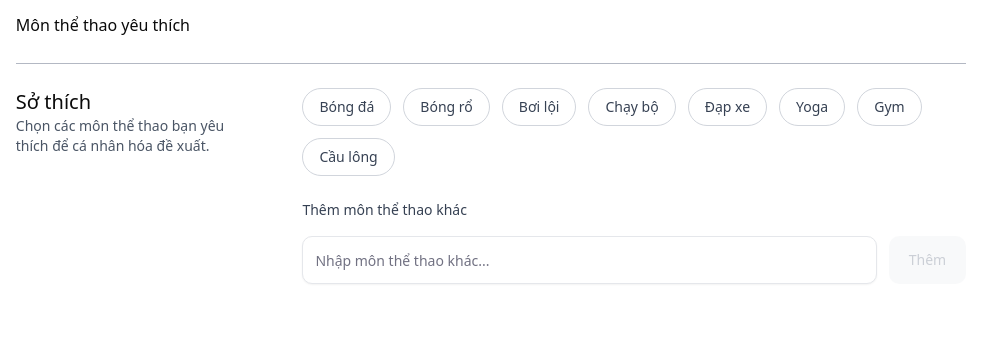
Test: SportsSection Component › allows removing custom sports
Type "Bóng chuyền" into the field with placeholder "Nhập môn thể thao khác...".
click(590, 260); type("Bóng chuyền")  # box [302,236,877,284]
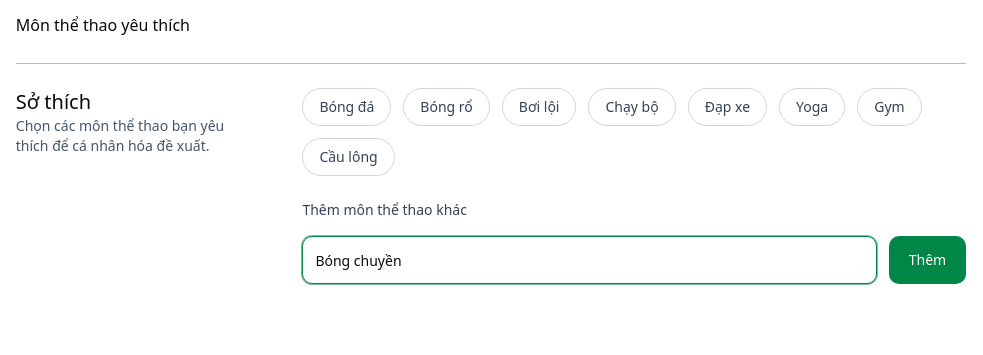
Click the button "Thêm".
click(928, 260)  # box [889,236,966,284]
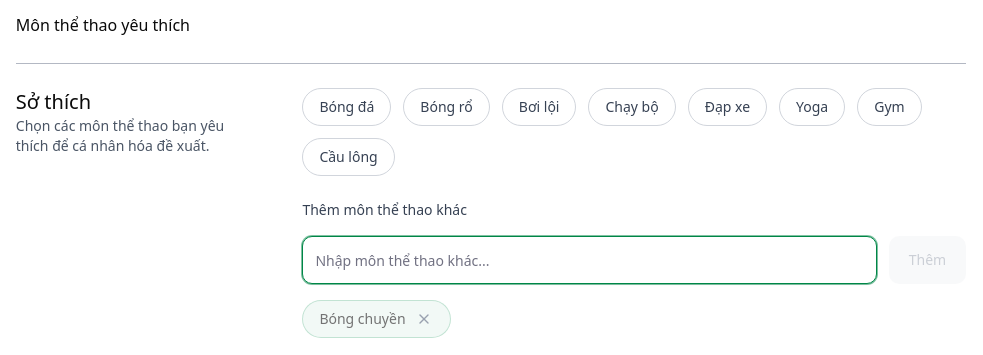
Click the button named "xóa bóng chuyền".
click(424, 319)  # box [414,309,434,329]
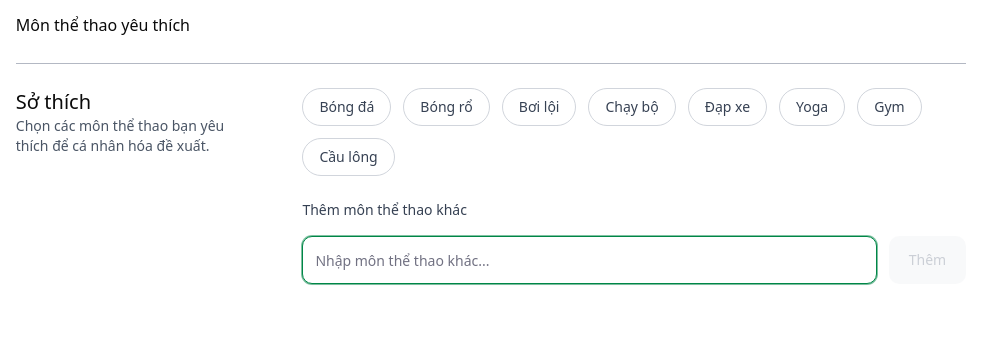
Now the text "Bóng chuyền" is gone
